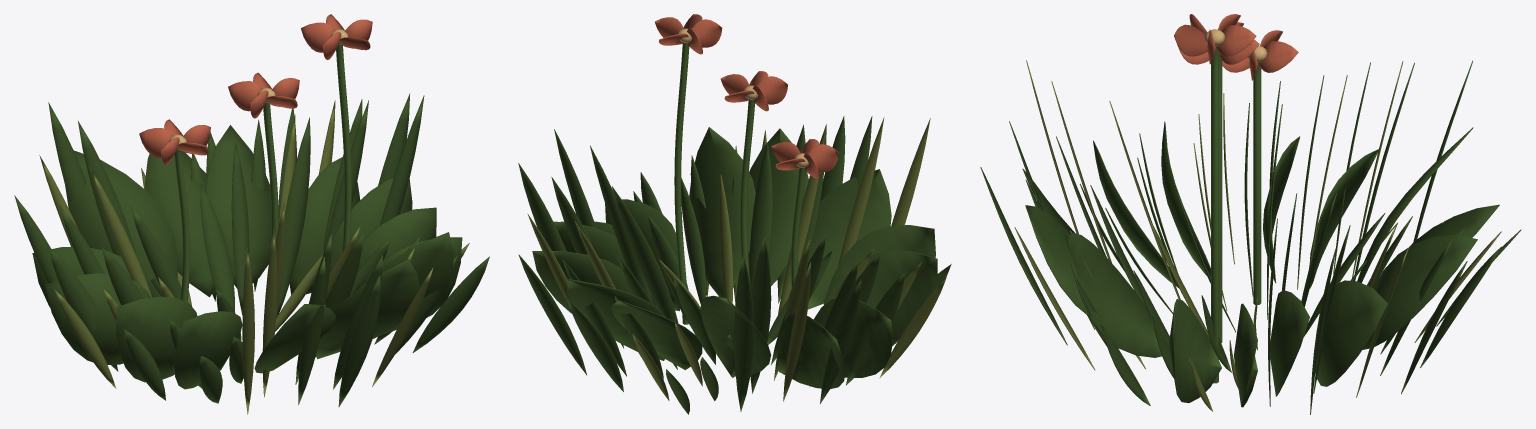
The model's file is understory.glb.
3 views of the same model, side by side, from view 1: azimuth 30°, elevation 25°; view 2: azimuth 150°, elevation 25°; view 3: azimuth 270°, elevation 25° (orthographic). The views are drawn at different scales.
Visible parts, largest first — view 1: Atelier_Understory; view 2: Atelier_Understory; view 3: Atelier_Understory.
Part boxes in pixels (x1,y1,x2,y2): Atelier_Understory: (14,14,489,414); Atelier_Understory: (518,14,951,414); Atelier_Understory: (980,14,1521,414).
Bounding box in the file's own units: 0.908 × 0.6858 × 0.9348.
